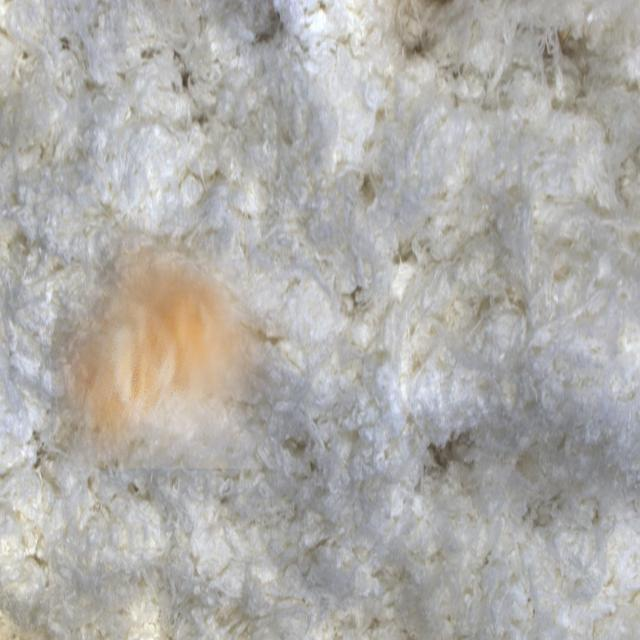dust: (51, 204, 290, 469)
